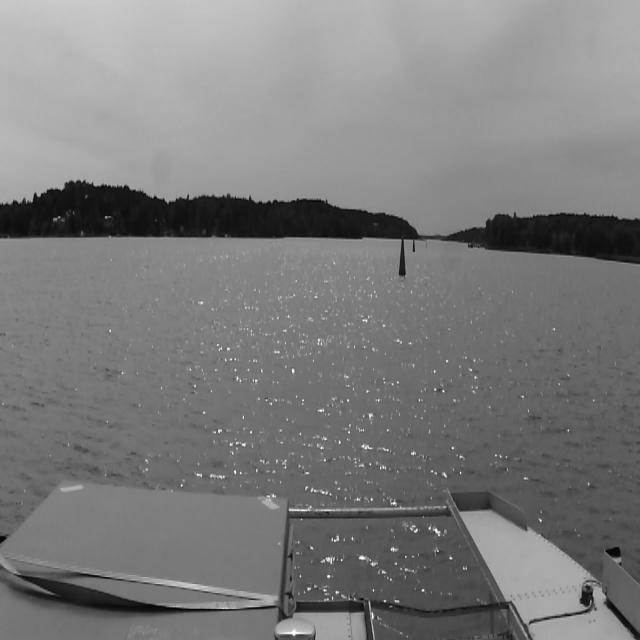buoy: (401, 237, 404, 274), (413, 239, 415, 253)
